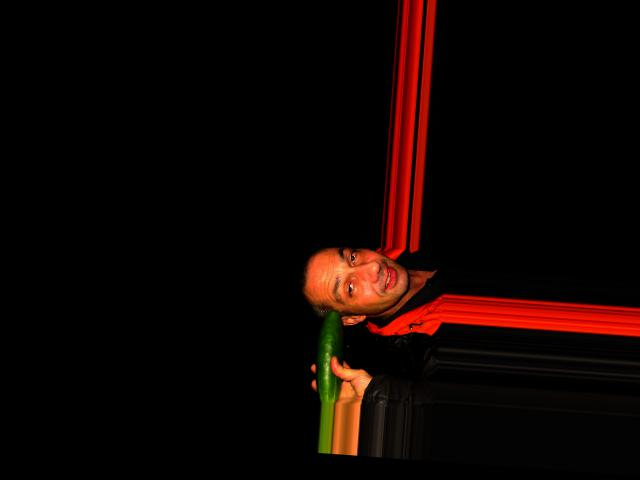cucumber: (313, 308, 346, 403)
